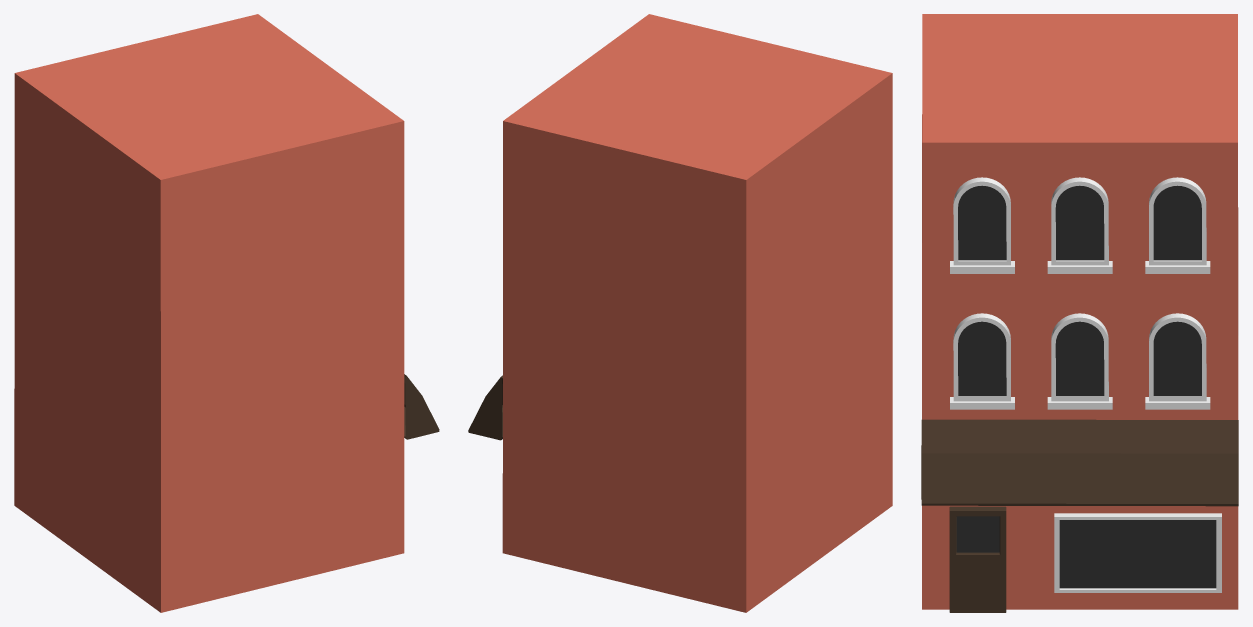
3 renders of one model, left to right at view 1: azimuth 30°, elevation 25°; view 2: azimuth 150°, elevation 25°; view 3: azimuth 270°, elevation 25°, orthographic. The views are drawn at different scales.
Parts seen in each view (by area): view 1: BusinessBuildings.046; view 2: BusinessBuildings.046; view 3: BusinessBuildings.046.
Boxes of the visible parts, x1,y1,x2,y2 form: BusinessBuildings.046: (14, 14, 439, 612); BusinessBuildings.046: (468, 14, 892, 612); BusinessBuildings.046: (921, 14, 1238, 612).
Size of the model in its own units: 90.89 by 135 by 83.01.
